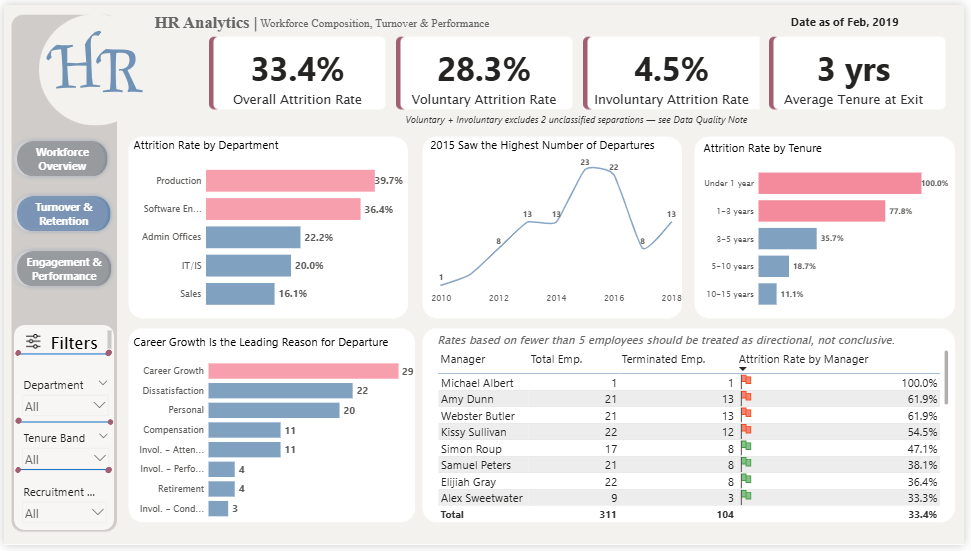

This screenshot's page, from the dashboard's own definition file:
{"tool":"powerbi","page":{"name":"Turnover & Retention","canvas":[1920,1080],"ordinal":1},"visuals":[{"type":"shape","box":[20,640,200,410],"z":0},{"type":"slicer","fields":{"Values":["Dimdepartment.Department"]},"box":[25.3,738.7,193.2,90.3],"z":1000},{"type":"slicer","fields":{"Values":["Employees (working copy).Tenure_Band"]},"box":[26.8,844.4,194.1,90.8],"z":2000},{"type":"slicer","fields":{"Values":["Employees (working copy).RecruitmentSource"]},"box":[25.3,951.8,189.6,88.5],"z":3000},{"type":"textbox","box":[28.9,646.2,192,51.6],"z":4000},{"type":"image","box":[37.2,658.6,40,29],"z":5000},{"type":"shape","box":[30.7,688.1,182.4,19.9],"z":6000},{"type":"shape","box":[200.3,671,18.6,51.6],"z":7000},{"type":"shape","box":[20.6,671,16.5,51.6],"z":8000},{"type":"shape","box":[30.7,827.2,185,12],"z":9000},{"type":"shape","box":[204.1,825.4,18.1,16.3],"z":10000},{"type":"shape","box":[19.9,816.3,18.1,30.7],"z":11000},{"type":"shape","box":[31,924.9,177.5,10.3],"z":12000},{"type":"shape","box":[200.3,900.1,18.6,59.9],"z":13000},{"type":"shape","box":[20.6,900.1,16.5,59.9],"z":14000},{"type":"card","fields":{"Values":["_Measures.Overall Attrition Rate (Display)"]},"box":[425.3,74.3,322.1,136.3],"z":15000},{"type":"card","fields":{"Values":["_Measures.Voluntary Attrition Rate (Display)"]},"box":[803.1,74.3,311.7,136.3],"z":16000},{"type":"card","fields":{"Values":["_Measures.Involuntary Attrition Rate (Display)"]},"box":[1172.6,74.3,326.2,136.3],"z":17000},{"type":"card","fields":{"Values":["_Measures.Average Tenure at Exit (Display)"]},"box":[1536,74.3,326.2,136.3],"z":18000},{"type":"textbox","box":[799,210.6,737,35.1],"z":19000},{"type":"shape","box":[1444.8,0,475,65],"z":20000},{"type":"clusteredBarChart","fields":{"Category":["Employees (working copy).Term Reason Category"],"Y":["_Measures.Term Reason Count"]},"box":[253.9,658.6,569.8,386.1],"z":21000},{"type":"barChart","title":"Attrition Rate by Tenure","fields":{"Category":["Employees (working copy).Tenure_Band"],"Y":["_Measures.Attrition Rate by Tenure Band"]},"box":[1394,270,500,358],"z":22000},{"type":"barChart","title":"Attrition Rate by Department ","fields":{"Category":["Dimdepartment.Department","DimPosition.Position"],"Y":["_Measures.Attrition Rate by Department"]},"box":[254.6,263.7,549,364.8],"z":23000},{"type":"tableEx","title":"Rates based on fewer than 5 employees should be treated as directional, not conclusive.","fields":{"Values":["DimManagers.ManagerName","_Measures.Total Employees","_Measures.Terminated Employees","_Measures.Attrition Rate by Manager"]},"box":[862,654,1032,382],"z":24000},{"type":"lineChart","fields":{"Y":["_Measures.Terminations by Term Date"],"Category":["DateTable.Year"]},"box":[847.6,263.7,512.9,346],"z":25000},{"type":"actionButton","box":[798.2,210.9,737.1,35.5],"z":26000},{"type":"actionButton","box":[17.7,264.1,197.1,86.7],"z":27000},{"type":"actionButton","box":[17.7,373.6,203,86.7],"z":28000},{"type":"actionButton","box":[17.7,483.1,204.4,86.7],"z":29000},{"type":"image","box":[31,18.6,305.5,223],"z":30000},{"type":"shape","box":[212,2,384,64],"z":31000},{"type":"shape","box":[504,8,492,58],"z":32000}]}

Visuals, with their boxes in screenshot pixels (x1, y1, x2, y2), scaled from the page's 1920x1080 canvas onto the 971x551 screenshot:
shape: [left=10, top=327, right=111, bottom=536]
slicer - Dimdepartment.Department: [left=13, top=377, right=111, bottom=423]
slicer - Employees (working copy).Tenure_Band: [left=14, top=431, right=112, bottom=477]
slicer - Employees (working copy).RecruitmentSource: [left=13, top=486, right=109, bottom=531]
textbox: [left=15, top=330, right=112, bottom=356]
image: [left=19, top=336, right=39, bottom=351]
shape: [left=16, top=351, right=108, bottom=361]
shape: [left=101, top=342, right=111, bottom=369]
shape: [left=10, top=342, right=19, bottom=369]
shape: [left=16, top=422, right=109, bottom=428]
shape: [left=103, top=421, right=112, bottom=429]
shape: [left=10, top=416, right=19, bottom=432]
shape: [left=16, top=472, right=105, bottom=477]
shape: [left=101, top=459, right=111, bottom=490]
shape: [left=10, top=459, right=19, bottom=490]
card - _Measures.Overall Attrition Rate (Display): [left=215, top=38, right=378, bottom=107]
card - _Measures.Voluntary Attrition Rate (Display): [left=406, top=38, right=564, bottom=107]
card - _Measures.Involuntary Attrition Rate (Display): [left=593, top=38, right=758, bottom=107]
card - _Measures.Average Tenure at Exit (Display): [left=777, top=38, right=942, bottom=107]
textbox: [left=404, top=107, right=777, bottom=125]
shape: [left=731, top=0, right=970, bottom=33]
clusteredBarChart - Employees (working copy).Term Reason Category x _Measures.Term Reason Count: [left=128, top=336, right=417, bottom=533]
"Attrition Rate by Tenure" barChart: [left=705, top=138, right=958, bottom=320]
"Attrition Rate by Department " barChart: [left=129, top=135, right=406, bottom=321]
"Rates based on fewer than 5 employees should be treated as directional, not conclusive." tableEx: [left=436, top=334, right=958, bottom=529]
lineChart - _Measures.Terminations by Term Date x DateTable.Year: [left=429, top=135, right=688, bottom=311]
actionButton: [left=404, top=108, right=776, bottom=126]
actionButton: [left=9, top=135, right=109, bottom=179]
actionButton: [left=9, top=191, right=112, bottom=235]
actionButton: [left=9, top=246, right=112, bottom=291]
image: [left=16, top=9, right=170, bottom=123]
shape: [left=107, top=1, right=301, bottom=34]
shape: [left=255, top=4, right=504, bottom=34]
